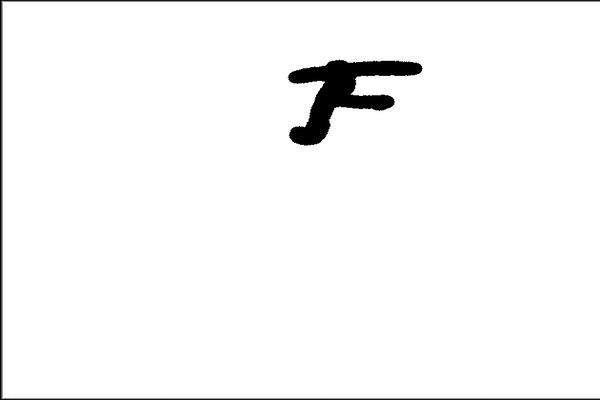F: (280, 54, 423, 151)
